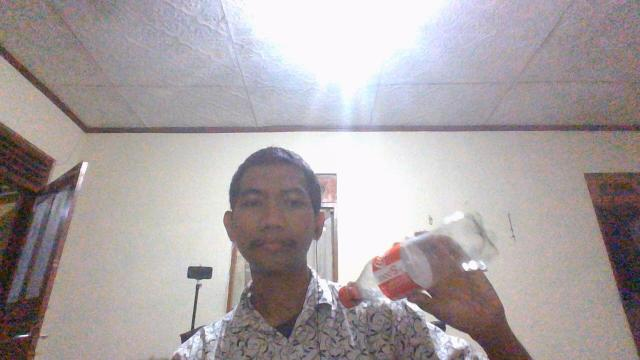coca-cola: (337, 210, 497, 309)
